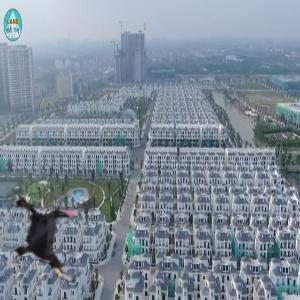drone: (1, 193, 93, 285)
